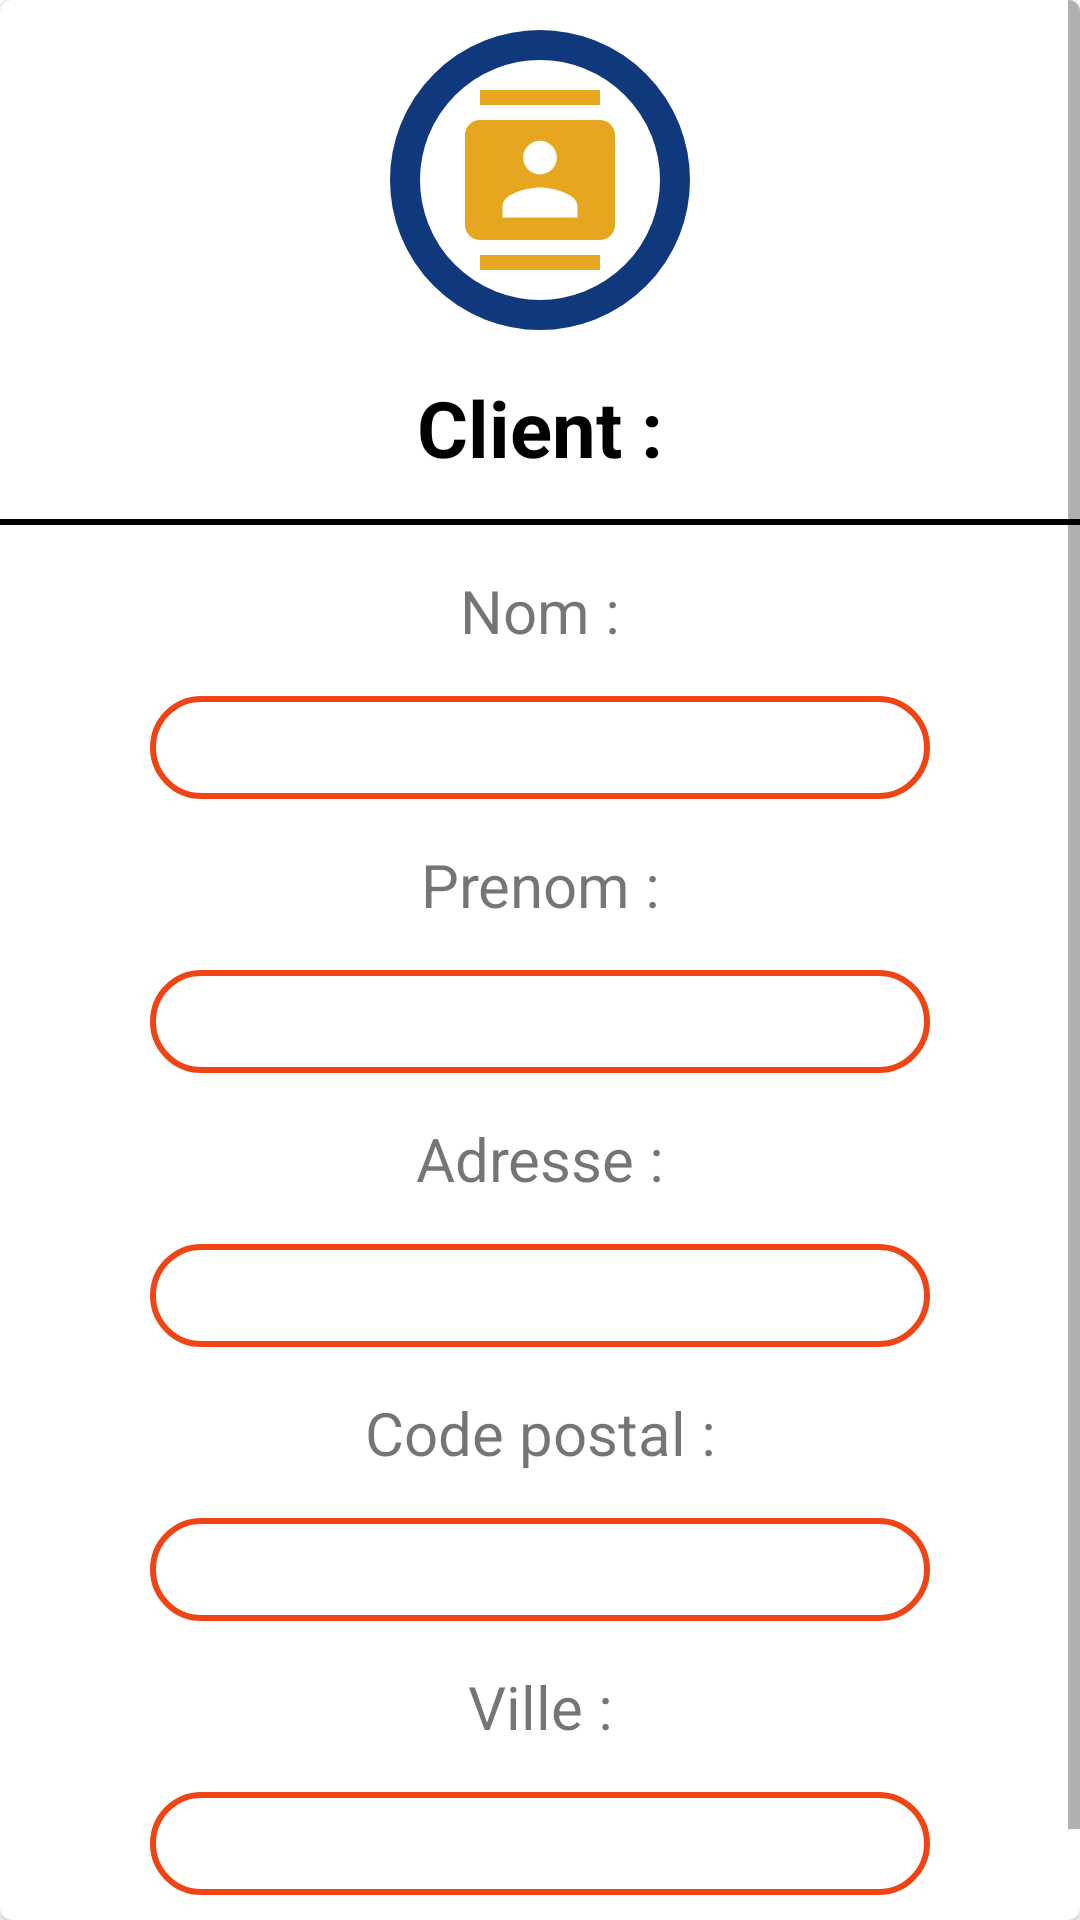

Locate icon controls on the screen. Image size 1080×1920, boxes as (x1, y1, x2, y2).
contacts: (390, 30, 690, 330)
